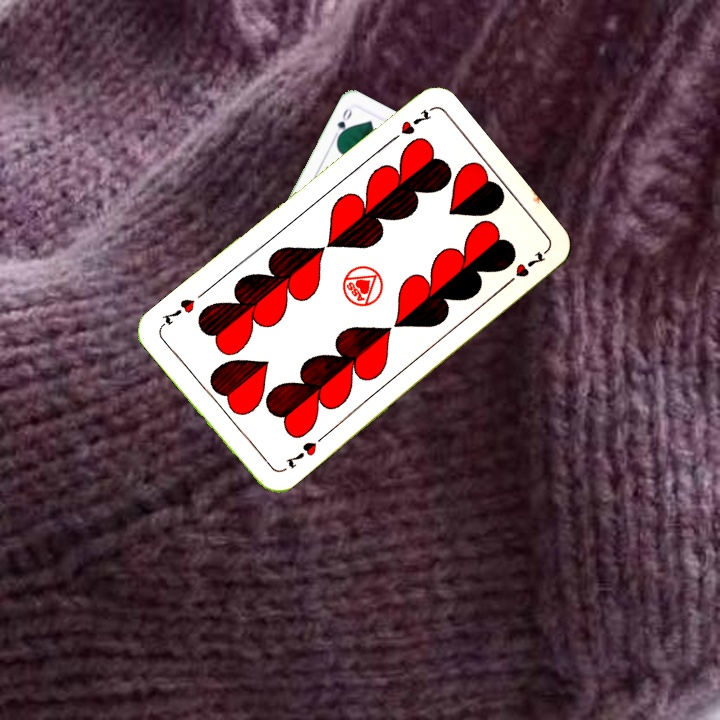GO: (330, 104, 355, 143)
H7: (383, 105, 434, 147), (281, 437, 320, 471)
